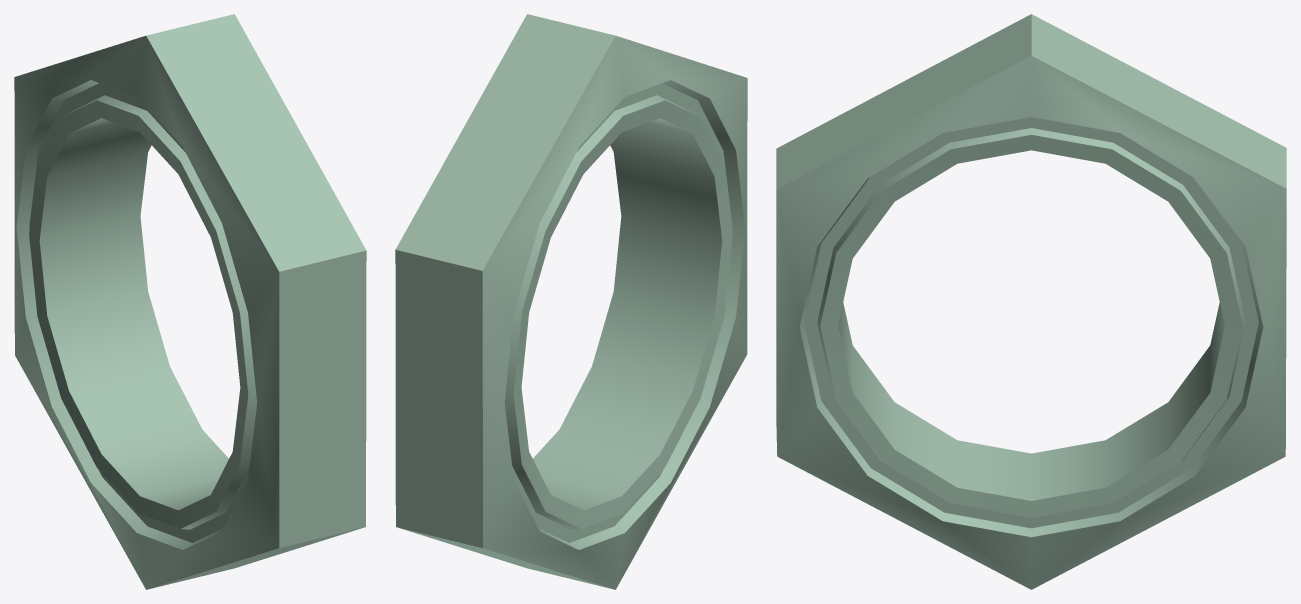
File: PipeLarge_Connector_06_Hollow.fbx
The picture shows the model from 3 angles, left to right: view 1: azimuth 30°, elevation 25°; view 2: azimuth 150°, elevation 25°; view 3: azimuth 270°, elevation 25°; orthographic projection. The views are drawn at different scales.
Parts seen in each view (by area): view 1: PipeLarge_Connector_06_Hollow.001; view 2: PipeLarge_Connector_06_Hollow.001; view 3: PipeLarge_Connector_06_Hollow.001.
Boxes of the visible parts, x1,y1,x2,y2 form: PipeLarge_Connector_06_Hollow.001: [14, 14, 366, 589]; PipeLarge_Connector_06_Hollow.001: [395, 14, 747, 589]; PipeLarge_Connector_06_Hollow.001: [776, 14, 1286, 589].
Bounding box in the file's own units: 0.0597 × 0.2958 × 0.2562.
